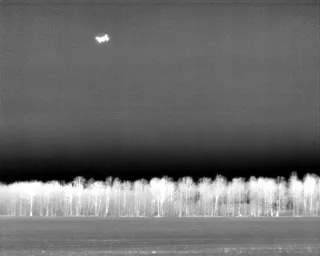DRONE: (92, 29, 114, 49)
